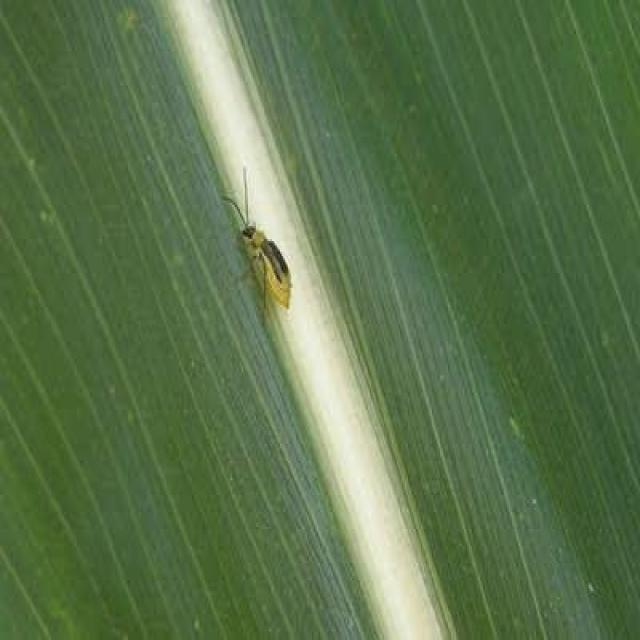trips: (220, 165, 293, 323)
